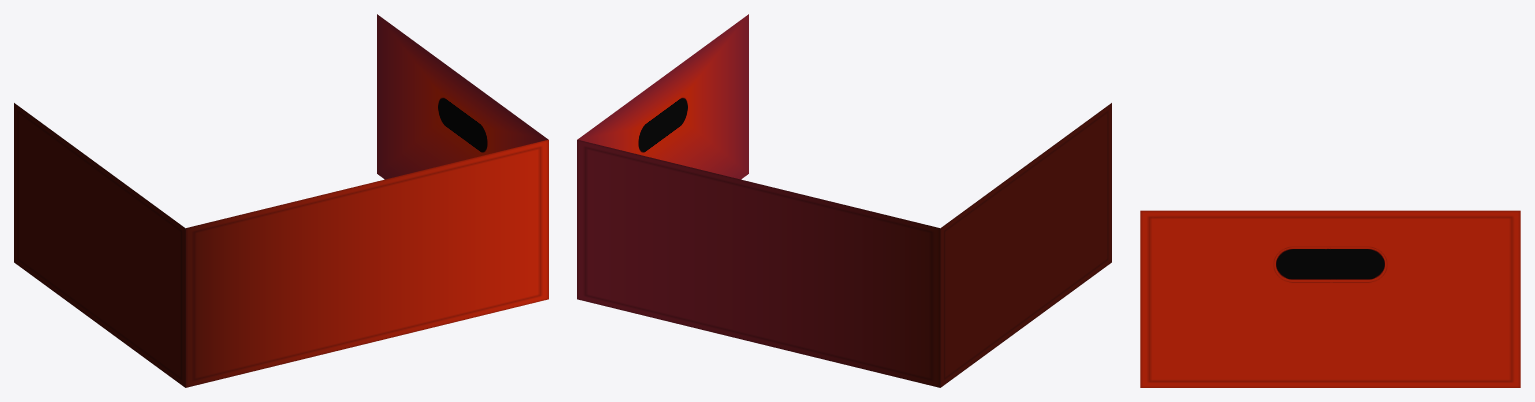
The picture shows the model from 3 angles, left to right: view 1: azimuth 30°, elevation 25°; view 2: azimuth 150°, elevation 25°; view 3: azimuth 270°, elevation 25°; orthographic projection. The views are drawn at different scales.
Visible parts, largest first — view 1: Joint_0_Object_0, Joint_0_Object_1; view 2: Joint_0_Object_0, Joint_0_Object_1; view 3: Joint_0_Object_0.
Part boxes in pixels (x1,y1,x2,y2): Joint_0_Object_0: [14, 103, 548, 387]; Joint_0_Object_1: [377, 14, 547, 179]; Joint_0_Object_0: [577, 103, 1111, 387]; Joint_0_Object_1: [578, 14, 748, 179]; Joint_0_Object_0: [1140, 210, 1520, 387].
Size of the model in its own units: 1114 by 468 by 911.
2 materials, 2 textured.
